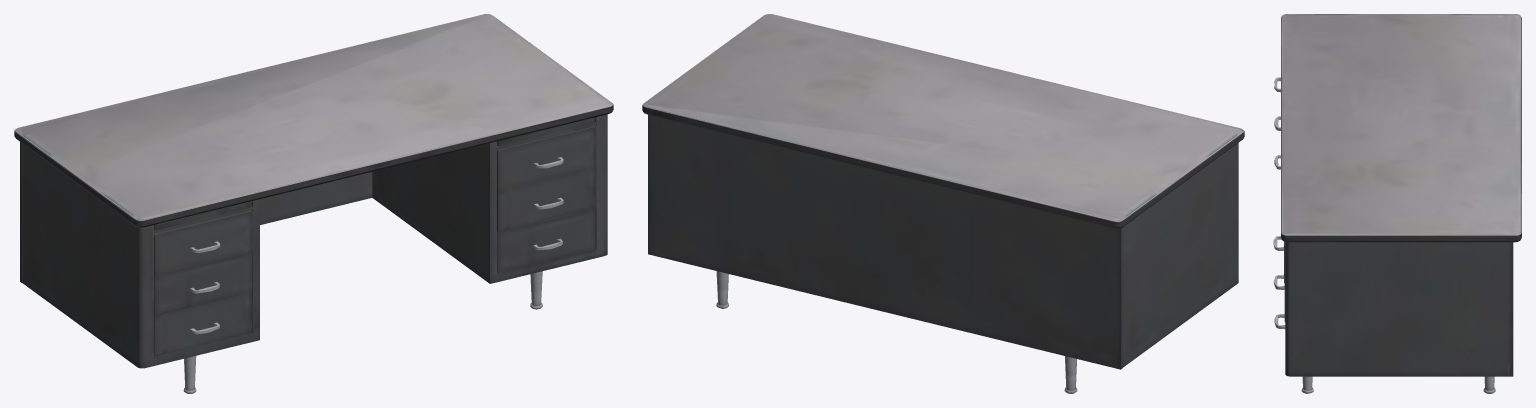
File: deskMetal_lo.glb
The picture shows the model from 3 angles, left to right: view 1: azimuth 30°, elevation 25°; view 2: azimuth 150°, elevation 25°; view 3: azimuth 270°, elevation 25°; orthographic projection. The views are drawn at different scales.
Parts seen in each view (by area): view 1: metal_office_desk, metal_office_desk_drawer_04, metal_office_desk_drawer_01, metal_office_desk_drawer_02, metal_office_desk_drawer_03, metal_office_desk_drawer_06, metal_office_desk_drawer_05, metal_office_desk_tray_01, metal_office_desk_tray_02; view 2: metal_office_desk; view 3: metal_office_desk.
Boxes of the visible parts, <box> form: metal_office_desk: <box>14,14,613,393</box>; metal_office_desk_drawer_04: <box>154,210,252,275</box>; metal_office_desk_drawer_01: <box>497,126,596,191</box>; metal_office_desk_drawer_02: <box>497,167,596,231</box>; metal_office_desk_drawer_03: <box>497,208,595,272</box>; metal_office_desk_drawer_06: <box>154,292,252,356</box>; metal_office_desk_drawer_05: <box>154,252,252,315</box>; metal_office_desk_tray_01: <box>154,201,252,230</box>; metal_office_desk_tray_02: <box>497,117,595,146</box>; metal_office_desk: <box>642,14,1244,393</box>; metal_office_desk: <box>1281,14,1521,393</box>.
Size of the model in its own units: 2 by 0.7874 by 0.947.
1 material, 1 textured.
